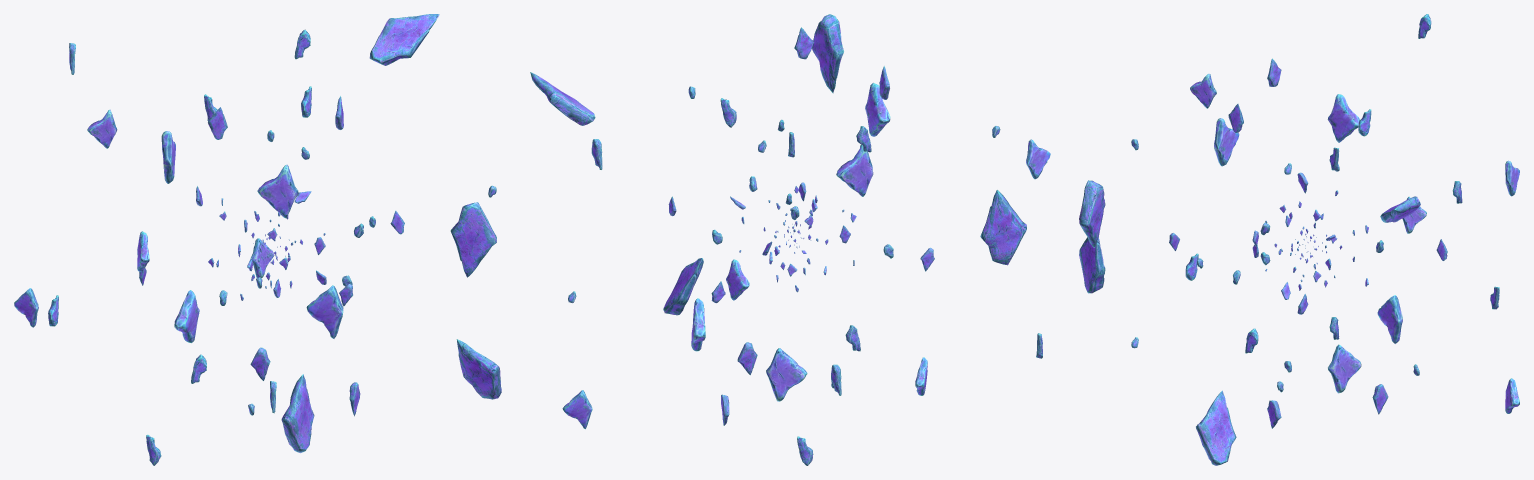
3 views of the same model, side by side, from view 1: azimuth 30°, elevation 25°; view 2: azimuth 150°, elevation 25°; view 3: azimuth 270°, elevation 25° (orthographic). The views are drawn at different scales.
Parts seen in each view (by area): view 1: Stone-4.010, Stone10.009, Stone-6.008, Stone-9.010; view 2: Stone-4.010, Stone-6.008, Stone10.009, Stone-9.010; view 3: Stone-4.010, Stone10.009, Stone-6.008, Stone-9.010.
Part boxes in pixels (bbox=[...]): Stone-4.010: bbox=[14, 14, 501, 465]; Stone10.009: bbox=[174, 285, 360, 416]; Stone-6.008: bbox=[161, 86, 343, 218]; Stone-9.010: bbox=[208, 191, 363, 305]; Stone-4.010: bbox=[530, 14, 1050, 465]; Stone-6.008: bbox=[720, 27, 890, 196]; Stone10.009: bbox=[691, 298, 860, 425]; Stone-9.010: bbox=[712, 176, 893, 292]; Stone-4.010: bbox=[1079, 14, 1519, 465]; Stone10.009: bbox=[1245, 295, 1402, 428]; Stone-6.008: bbox=[1214, 58, 1371, 174]; Stone-9.010: bbox=[1233, 190, 1383, 299].
Bounding box in the file's own units: 356 × 299 × 365.
2 materials, 2 textured.
